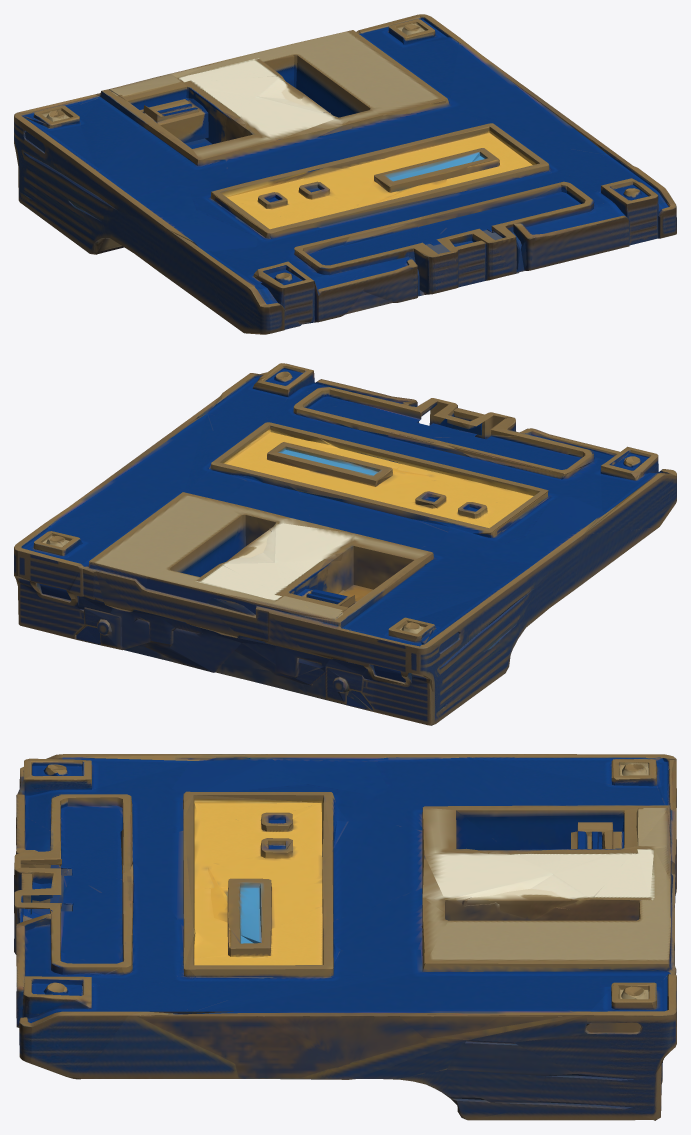
The picture shows the model from 3 angles, top to bottom: view 1: azimuth 30°, elevation 25°; view 2: azimuth 150°, elevation 25°; view 3: azimuth 270°, elevation 25°; orthographic projection. The views are drawn at different scales.
Size of the model in its own units: 1.78 by 0.3676 by 1.9.
Materials: 1 (1 with a texture image).
